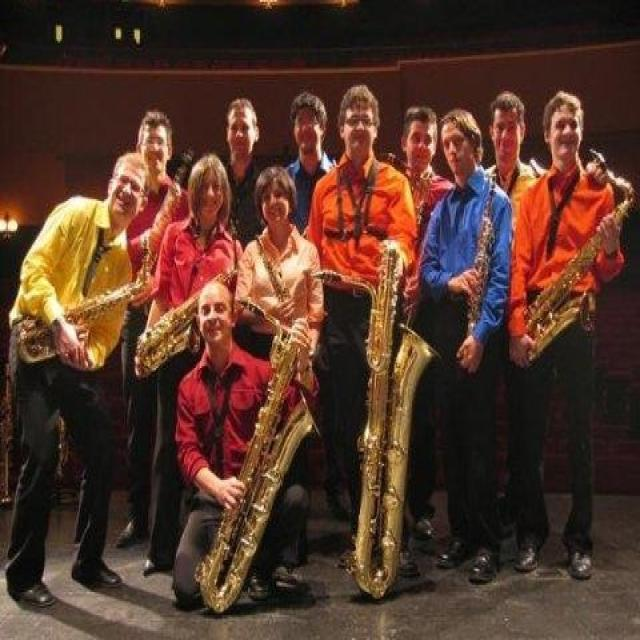clarinet: (453, 170, 504, 371)
saxophone: (514, 150, 636, 362), (16, 235, 154, 363), (134, 267, 244, 380)
